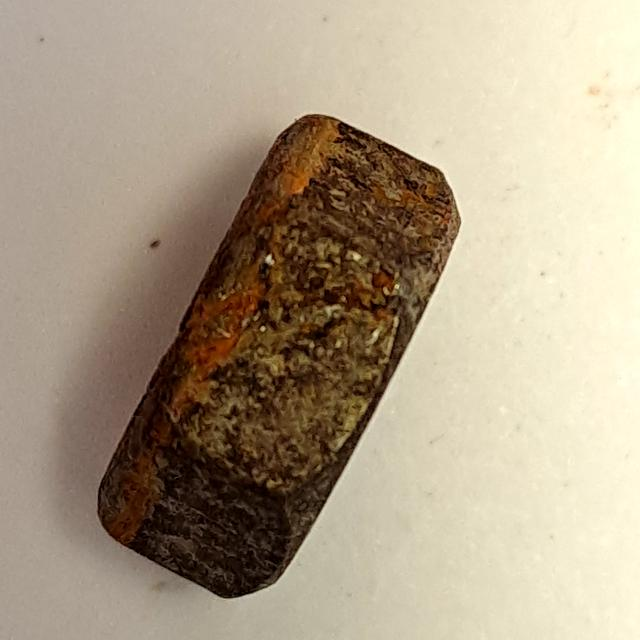Side_Rust: (84, 96, 474, 615)
